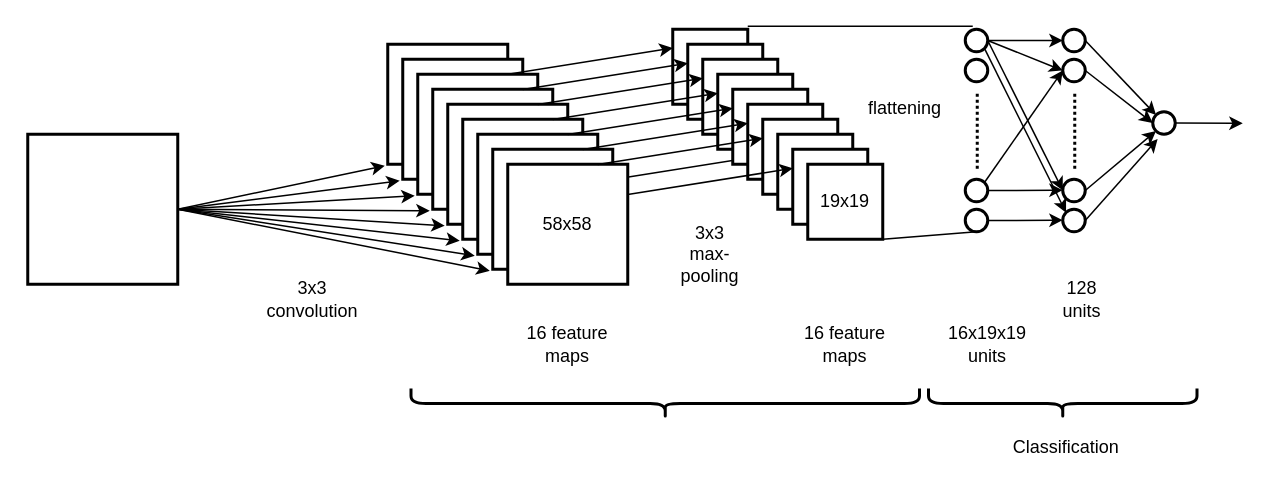
Image size: 1281x489. Some labels were removed from this diagram. The shapes that lost their labels are listed below. From the top down, each one's centre as x and y in pixels, then its label:
At point (102, 208): "60x60 input image".
At point (664, 402): "Feature extraction".
